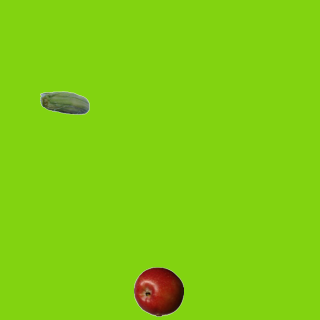Apple Braeburn: (133, 266, 183, 316)
Corn Husk: (39, 79, 89, 129)
